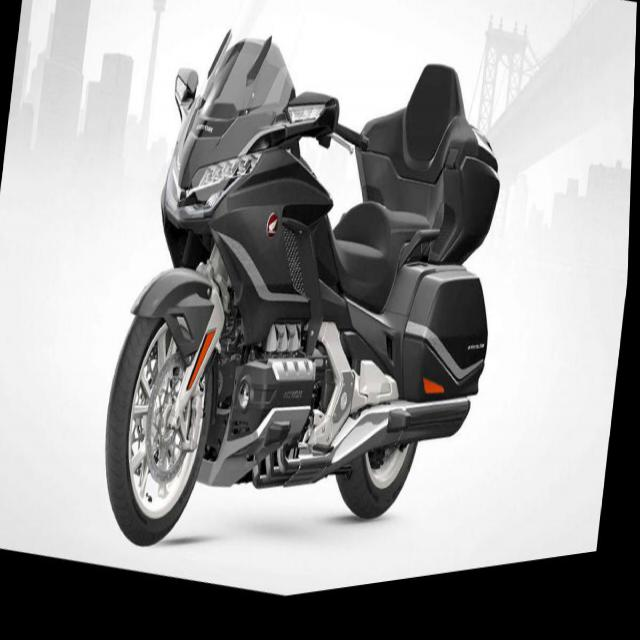Gold Wing: (94, 0, 523, 627)
